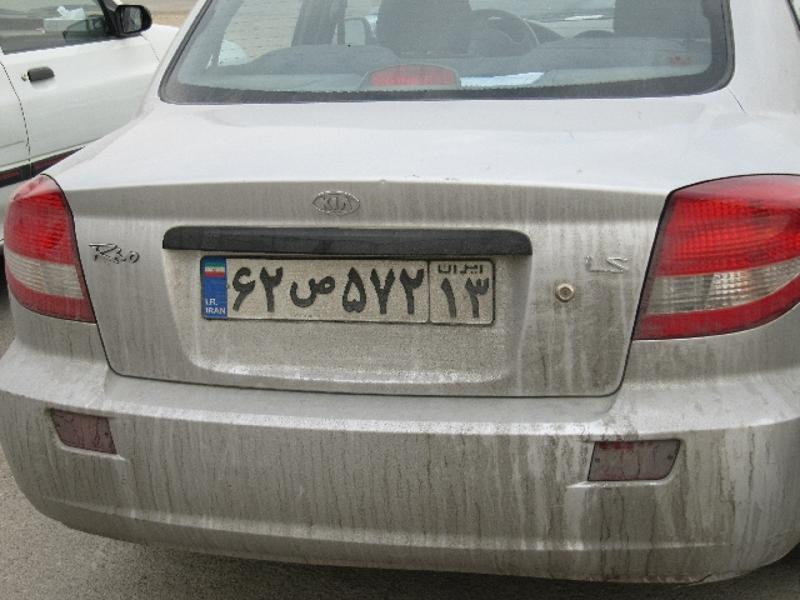Plate: (192, 243, 511, 331)
